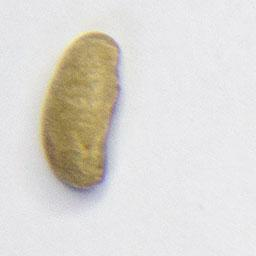defect: (34, 26, 129, 198)
